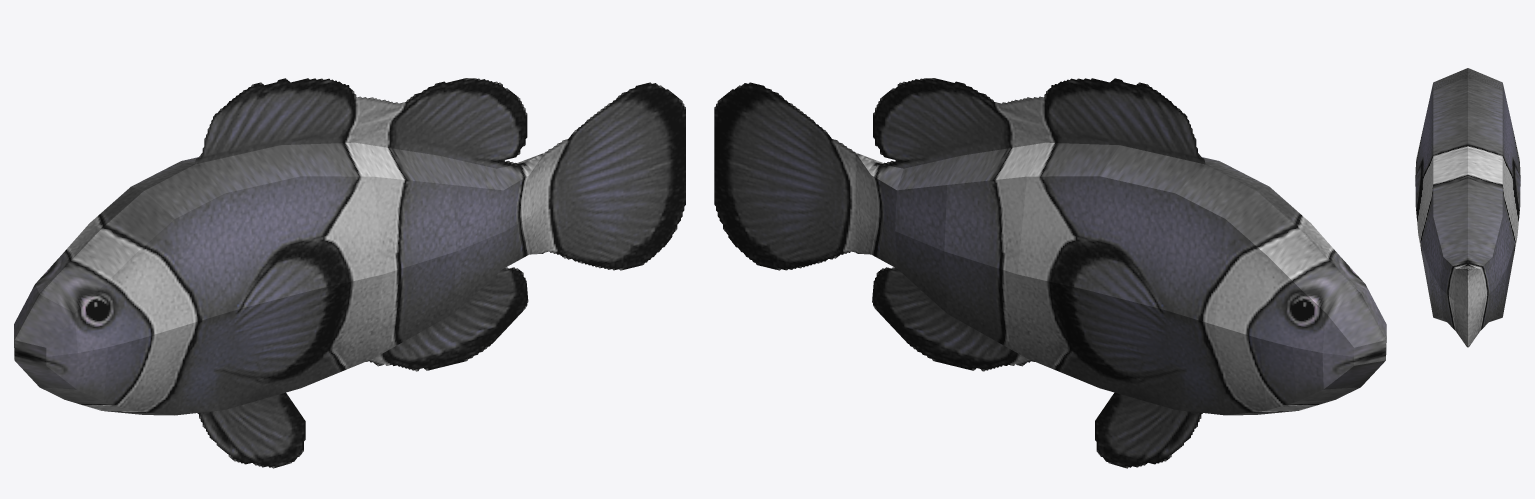
Rendered from Shadowstripe.fbx.
The picture shows the model from 3 angles, left to right: view 1: azimuth 30°, elevation 25°; view 2: azimuth 150°, elevation 25°; view 3: azimuth 270°, elevation 25°; orthographic projection. The views are drawn at different scales.
Parts seen in each view (by area): view 1: Clownfish; view 2: Clownfish; view 3: Clownfish.
Boxes of the visible parts, x1=… form: Clownfish: x1=14, y1=78, x2=685, y2=468; Clownfish: x1=714, y1=78, x2=1386, y2=468; Clownfish: x1=1415, y1=68, x2=1520, y2=347.
Bounding box in the file's own units: 106 × 62.66 × 18.18.
1 material, 1 textured.
